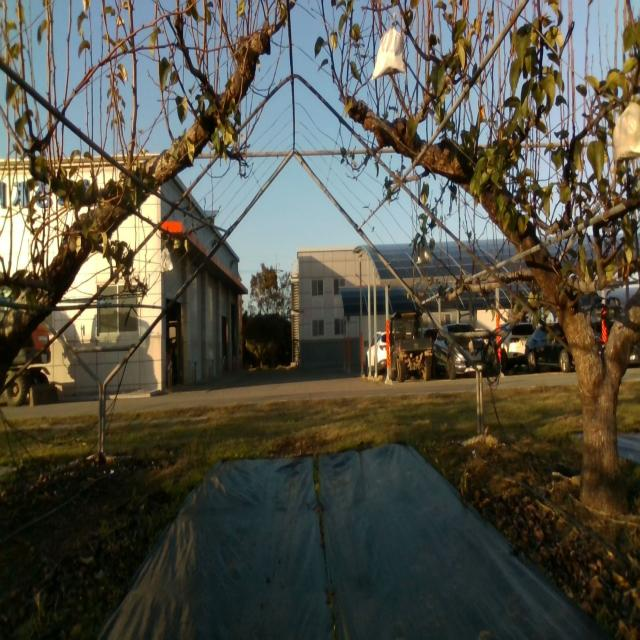pearbags: (371, 12, 407, 82), (611, 101, 640, 166), (416, 243, 433, 266), (160, 247, 173, 273)
